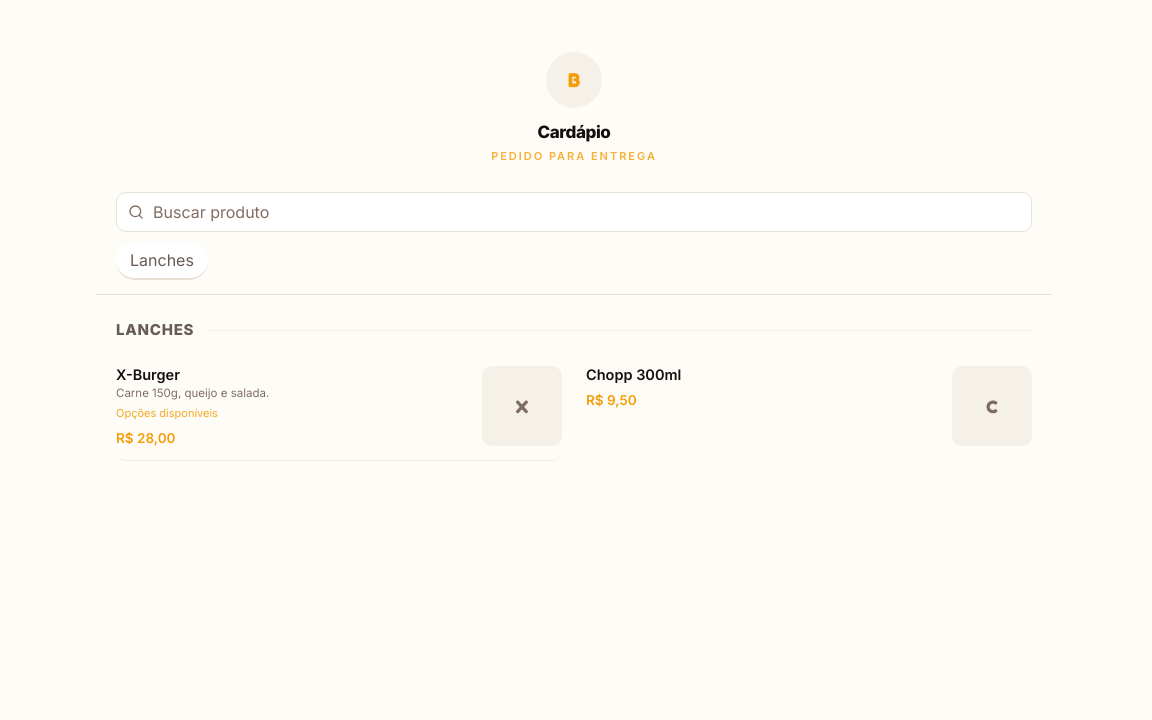
Scenario: CustomerMenuPage (integração) › abre o checkout a partir do carrinho
Click the button with aria-label "Ver Chopp 300ml" at (634, 374), box [586,366,940,410]
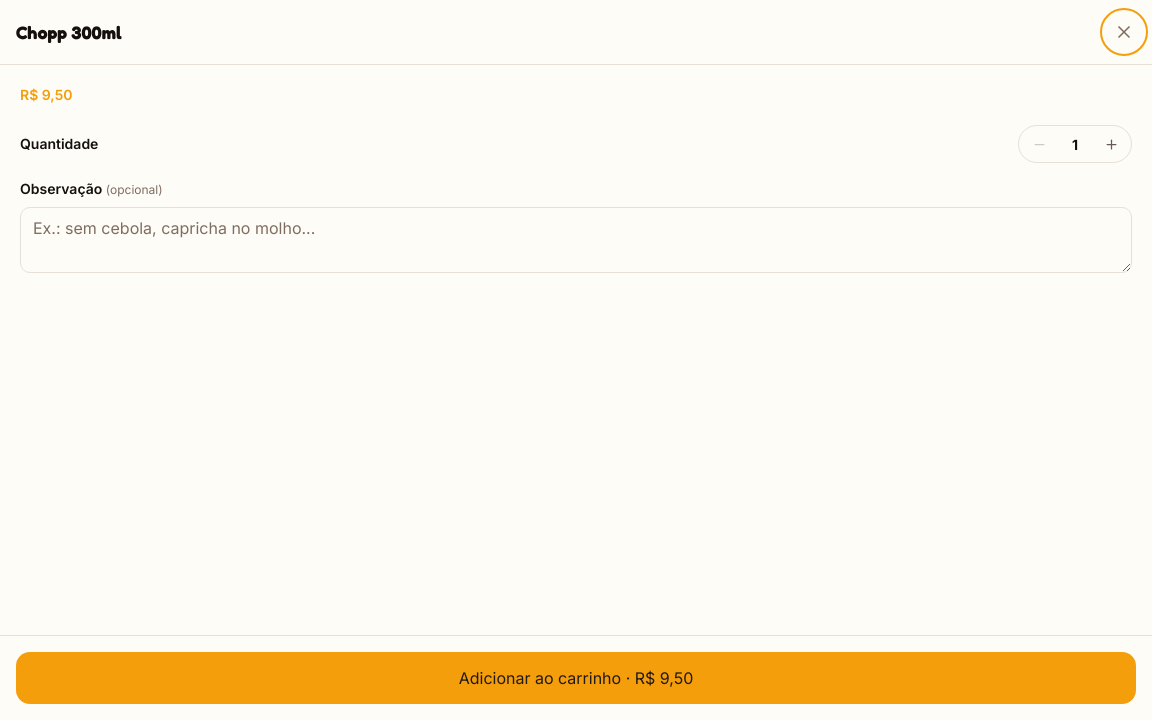
Expected: the dialog is shown
Click the text "Adicionar ao carrinho" at (540, 678), box [459,668,621,688]
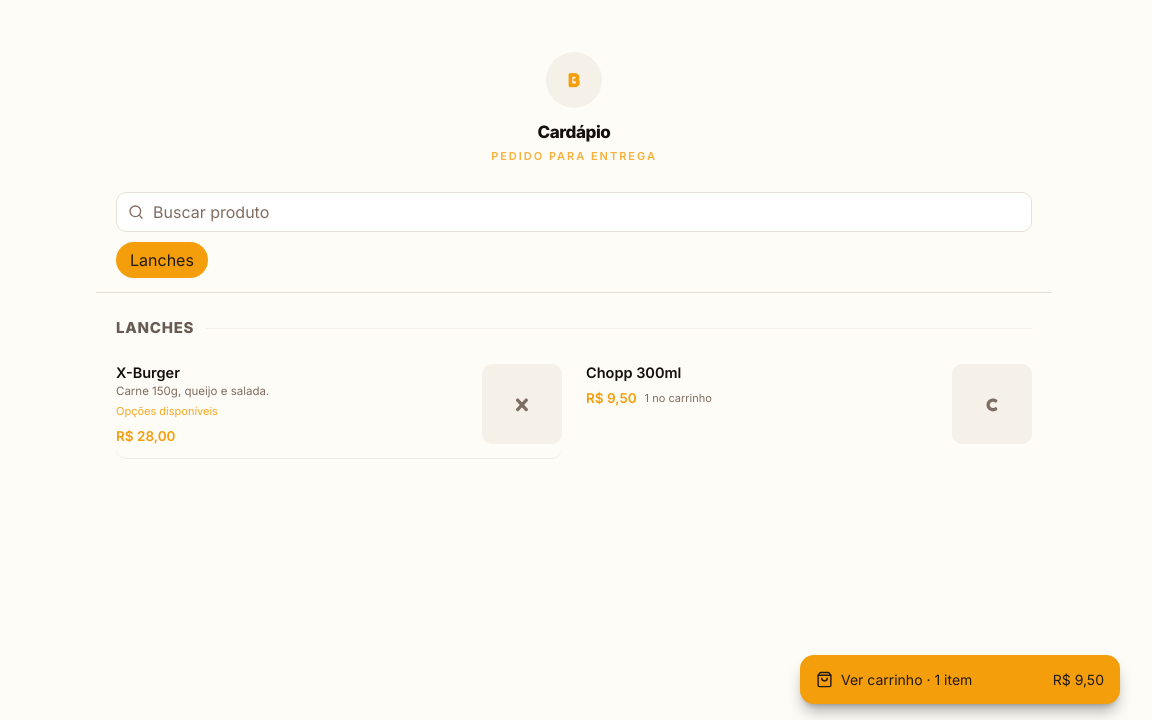
Expected: the text "Ver carrinho · 1 item" is shown
Click the text "Ver carrinho · 1 item" at (894, 680), box [816,669,972,690]
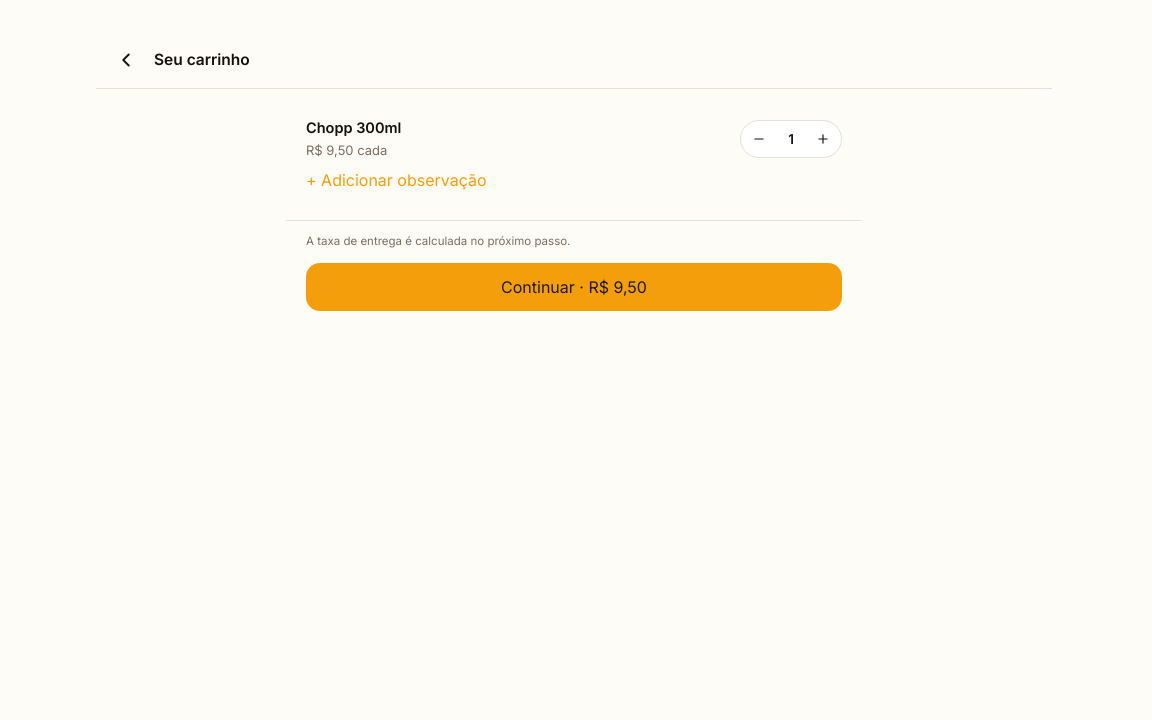
Expected: the text "Chopp 300ml" is shown, [306,117,401,139]
Expected: the heading "Seu carrinho" is shown, [154,48,250,72]
Click the button "Continuar · R$ 9,50" at (574, 286), box [306,262,842,310]
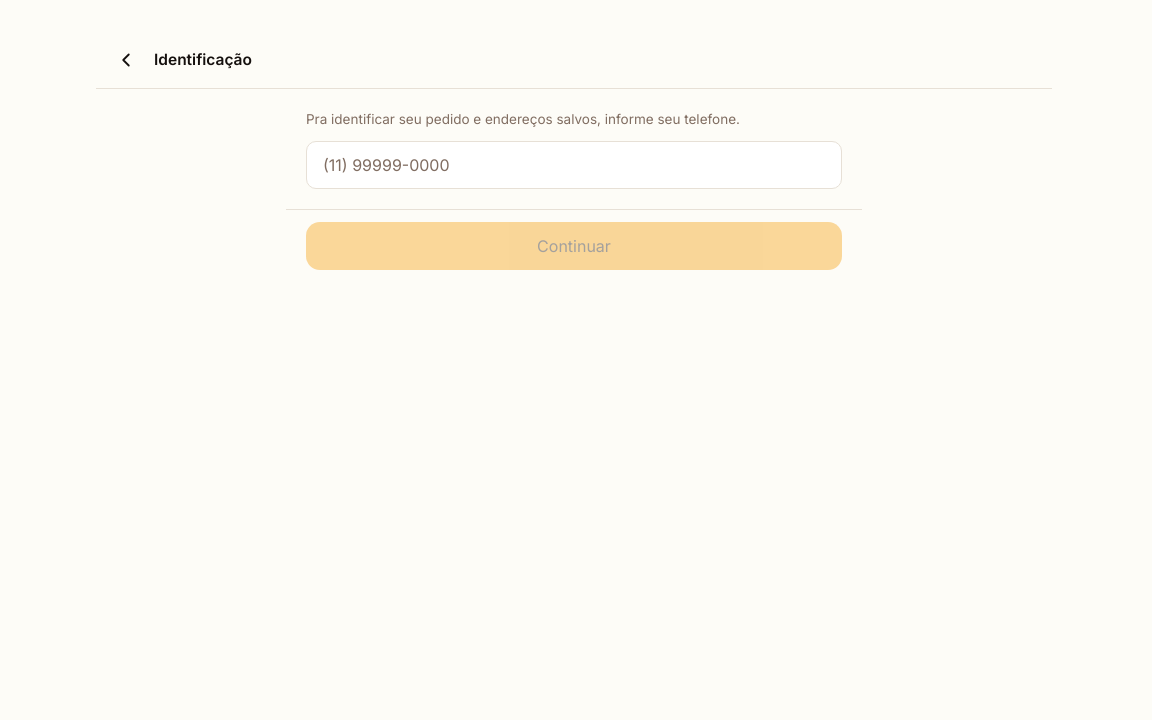
Expected: the heading "Identificação" is shown, [154,48,252,72]
